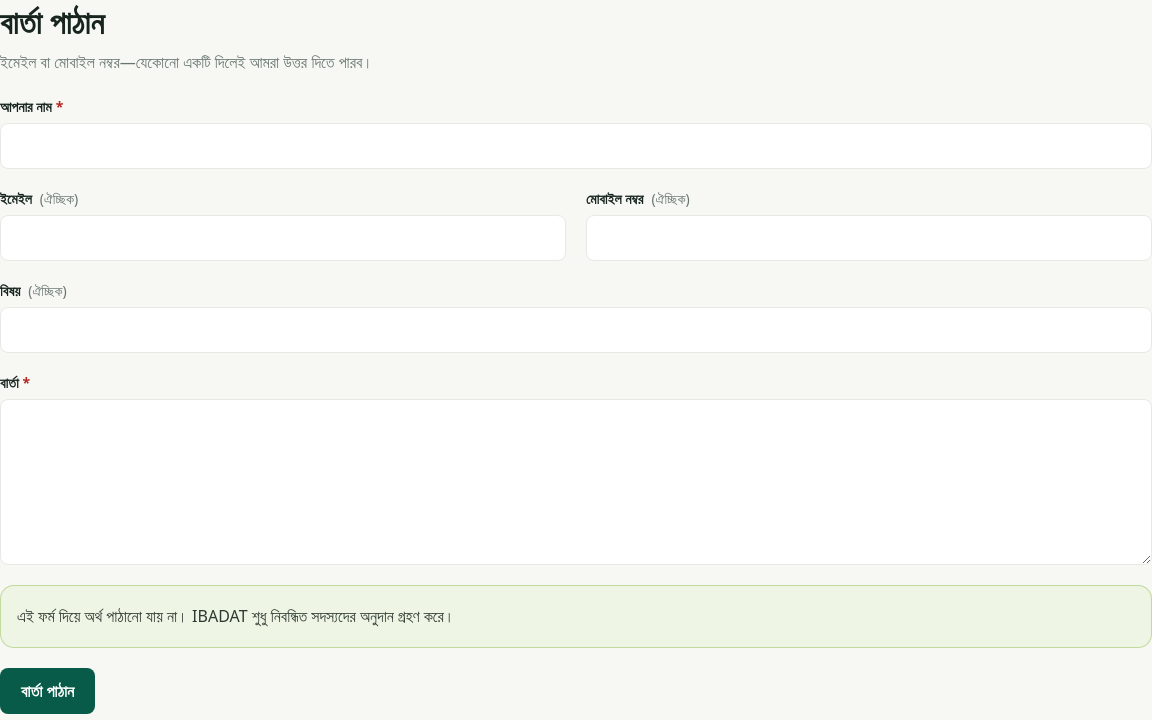
it: ContactForm › tells the visitor when the hourly cap is hit
The width and height of the screenshot is (1152, 720).
Type "Visitor" into the field labelled "আপনার নাম*".
click(576, 146); type("Visitor")  # box [0,123,1151,169]
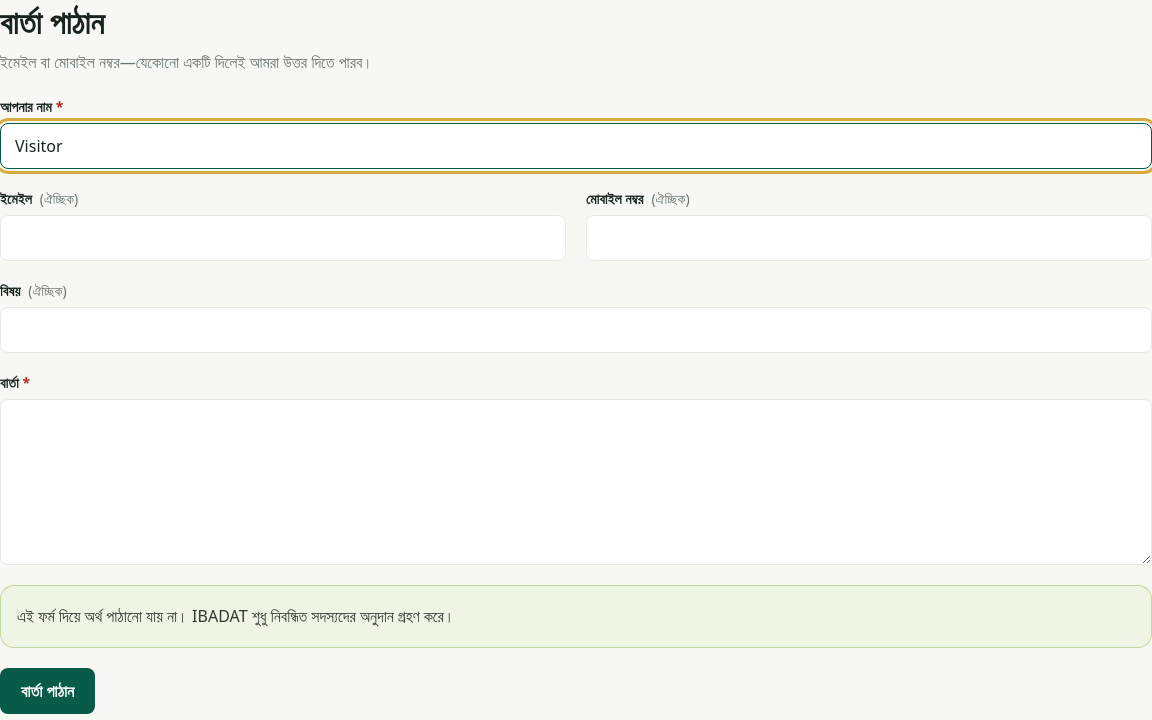
Type "v@example.org" into the field labelled "ইমেইল(ঐচ্ছিক)".
click(283, 238); type("v@example.org")  # box [0,215,566,261]
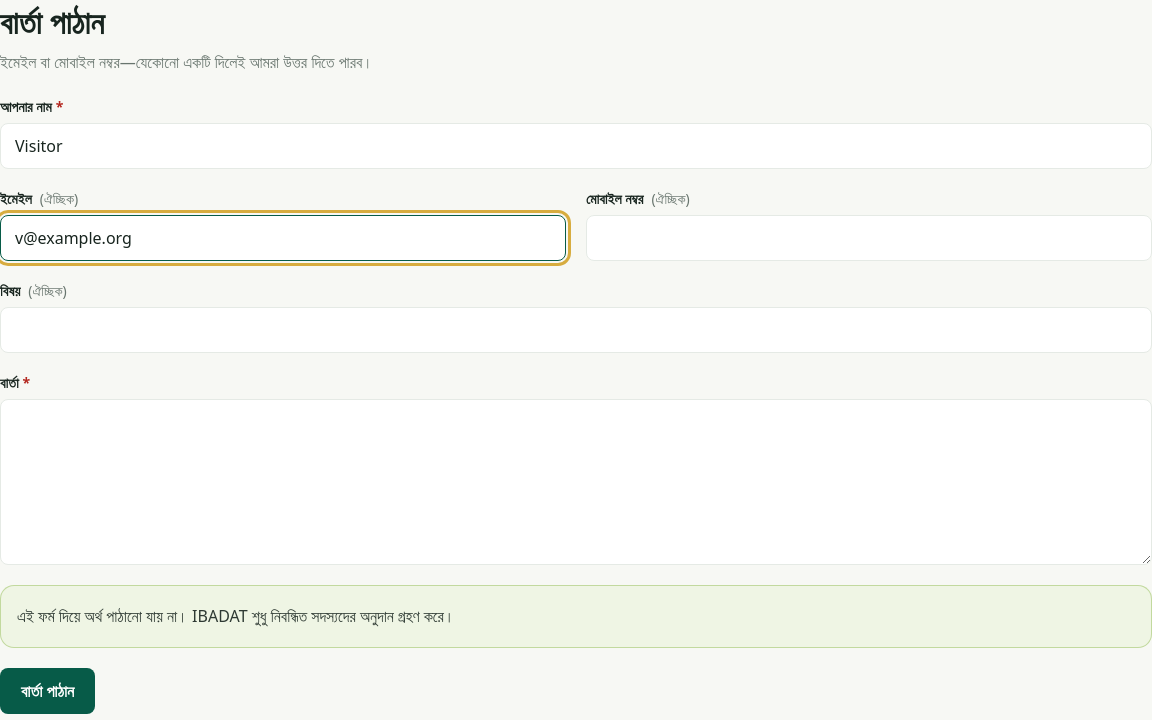
Type "একটি যথেষ্ট লম্বা বার্তা" into the text box labelled "বার্তা*".
click(576, 482); type("একটি যথেষ্ট লম্বা বার্তা")  # box [0,399,1151,565]
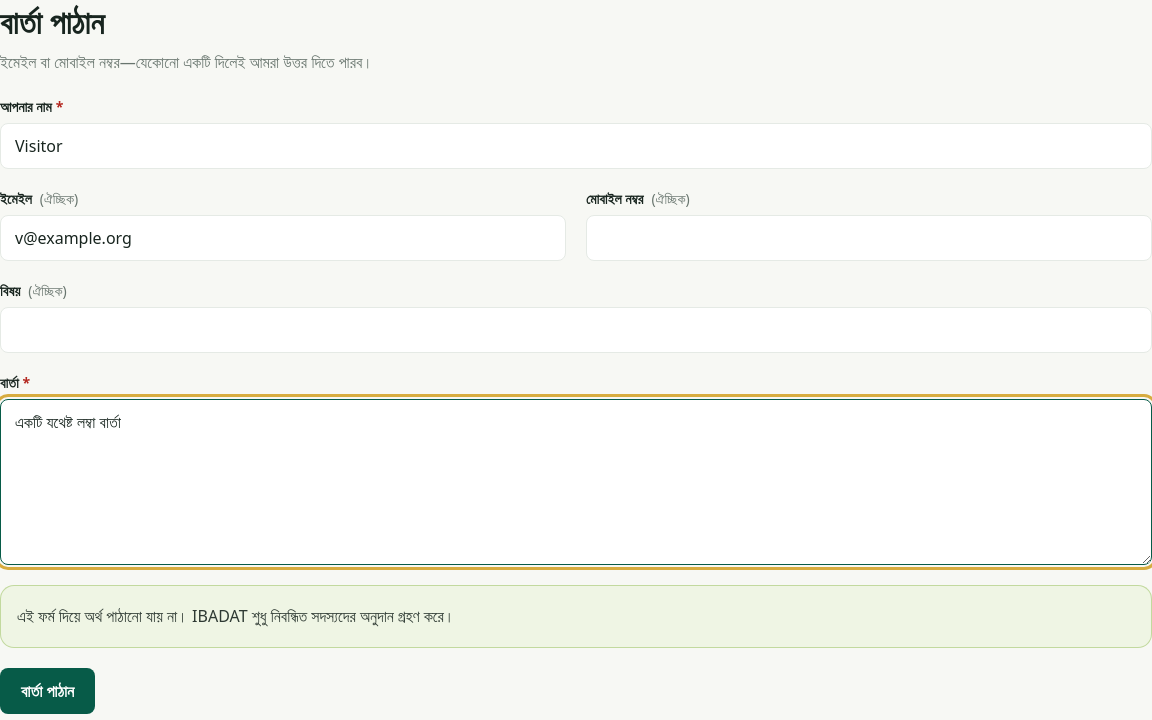
Click the button "বার্তা পাঠান".
click(48, 691)  # box [0,668,95,714]
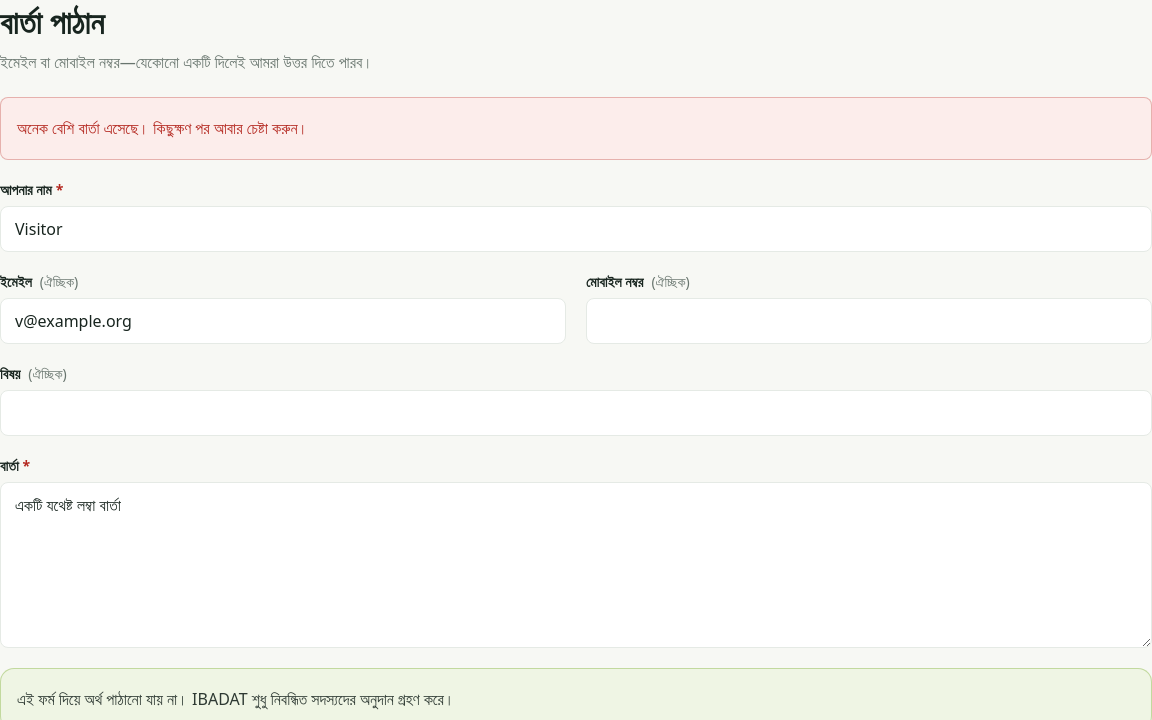
Now the text "অনেক বেশি বার্তা এসেছে। কিছুক্ষণ পর আবার চেষ্টা করুন।" is shown, box [0,97,1151,160]
